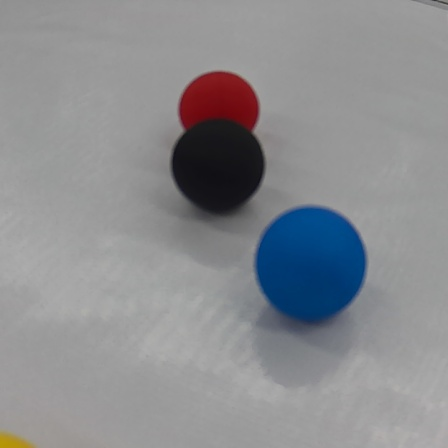black: (168, 120, 266, 214)
blue: (253, 204, 368, 322)
red: (177, 67, 262, 135)
